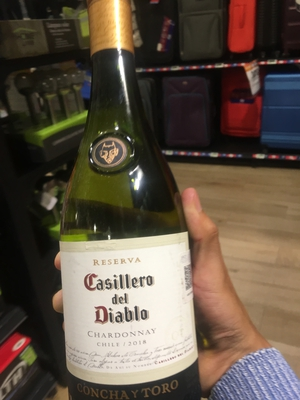casillero del diablo chardonnay: (47, 18, 204, 400)
